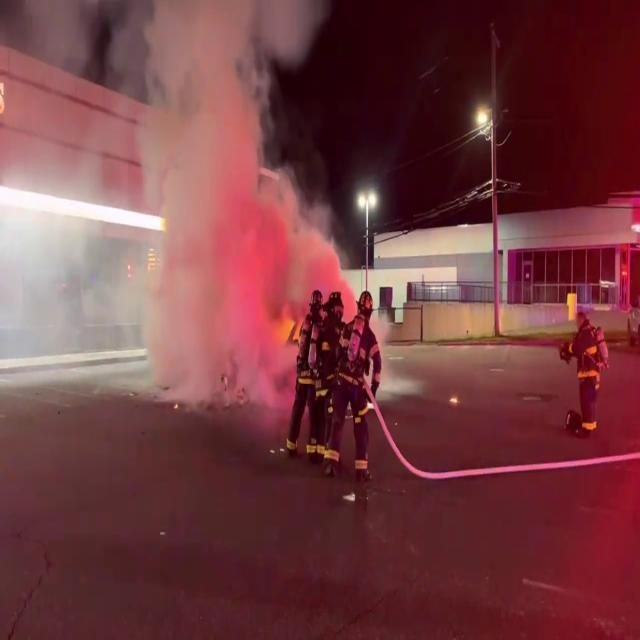Smoke: (141, 0, 342, 416)
